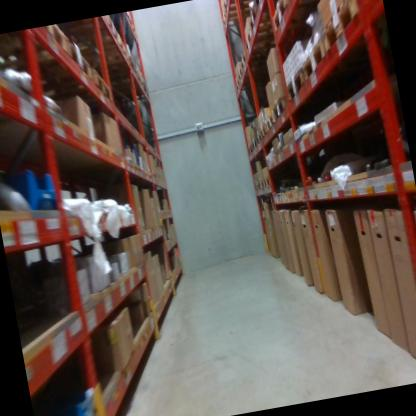pallet: (32, 62, 116, 116), (11, 43, 94, 93), (0, 23, 78, 72), (316, 0, 371, 62), (76, 33, 137, 78), (267, 0, 337, 36), (294, 26, 332, 88), (270, 70, 308, 124), (242, 23, 296, 58), (102, 68, 151, 104), (69, 14, 121, 47), (245, 0, 291, 30), (232, 70, 276, 96), (237, 45, 280, 68), (236, 62, 274, 84), (252, 0, 305, 15), (221, 0, 256, 12), (262, 173, 277, 193), (356, 0, 383, 11), (245, 139, 256, 160), (258, 123, 270, 141), (257, 176, 268, 193), (255, 132, 262, 146), (253, 180, 259, 193), (252, 137, 257, 149)
